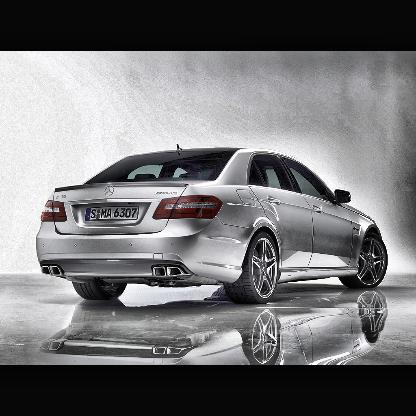Mercedes-Benz E-Class Sedan 2012: (37, 146, 389, 303)
